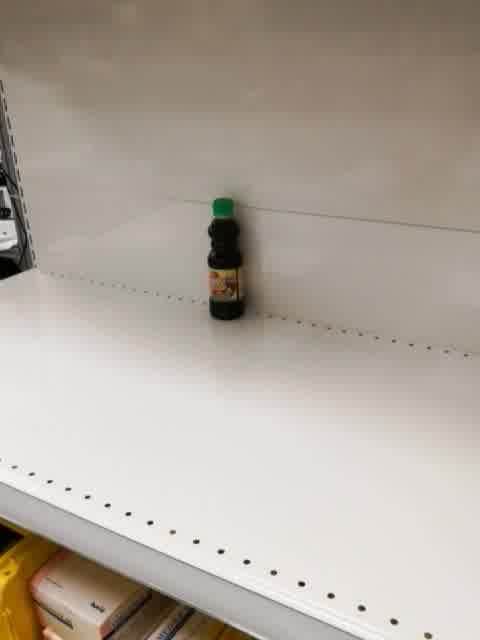cookingoil: (206, 193, 249, 321)
